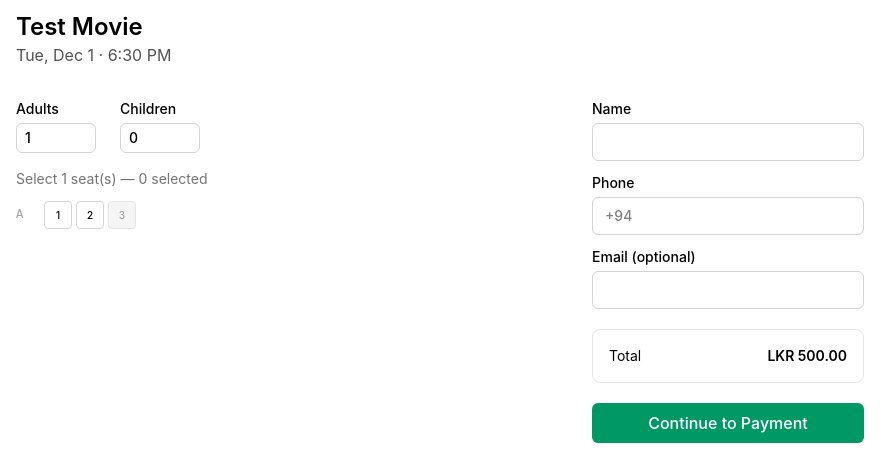
Scenario: SeatBookingPage › prices adults and children separately in the total
The image size is (881, 460).
Replace the text in the number field labelled "Children" with "1" at (160, 138), box [120, 123, 200, 153]
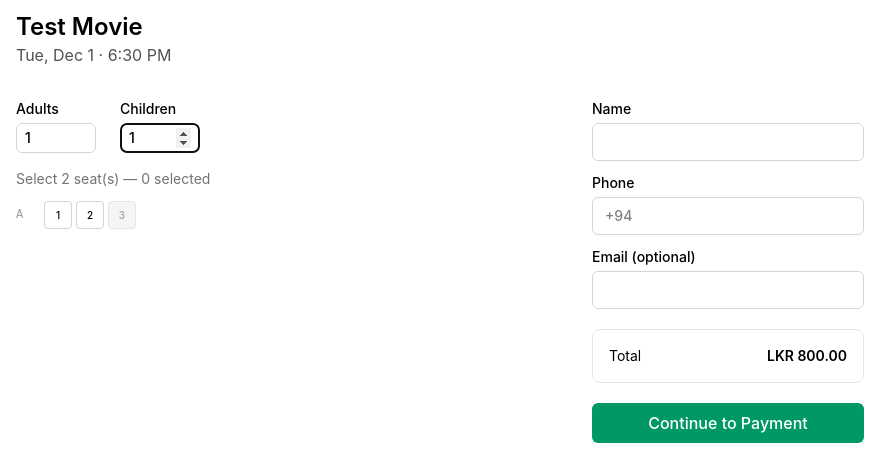
Check: the text "LKR 800.00" is shown, box [767, 346, 847, 366]
